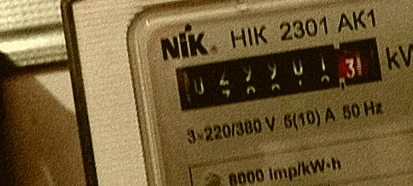0: (287, 51, 306, 78), (188, 72, 206, 96)
1: (314, 47, 329, 73)
2: (213, 63, 231, 87)
3: (340, 55, 359, 80)
9: (264, 57, 279, 82), (239, 60, 254, 82)
screen: (165, 28, 393, 122)
